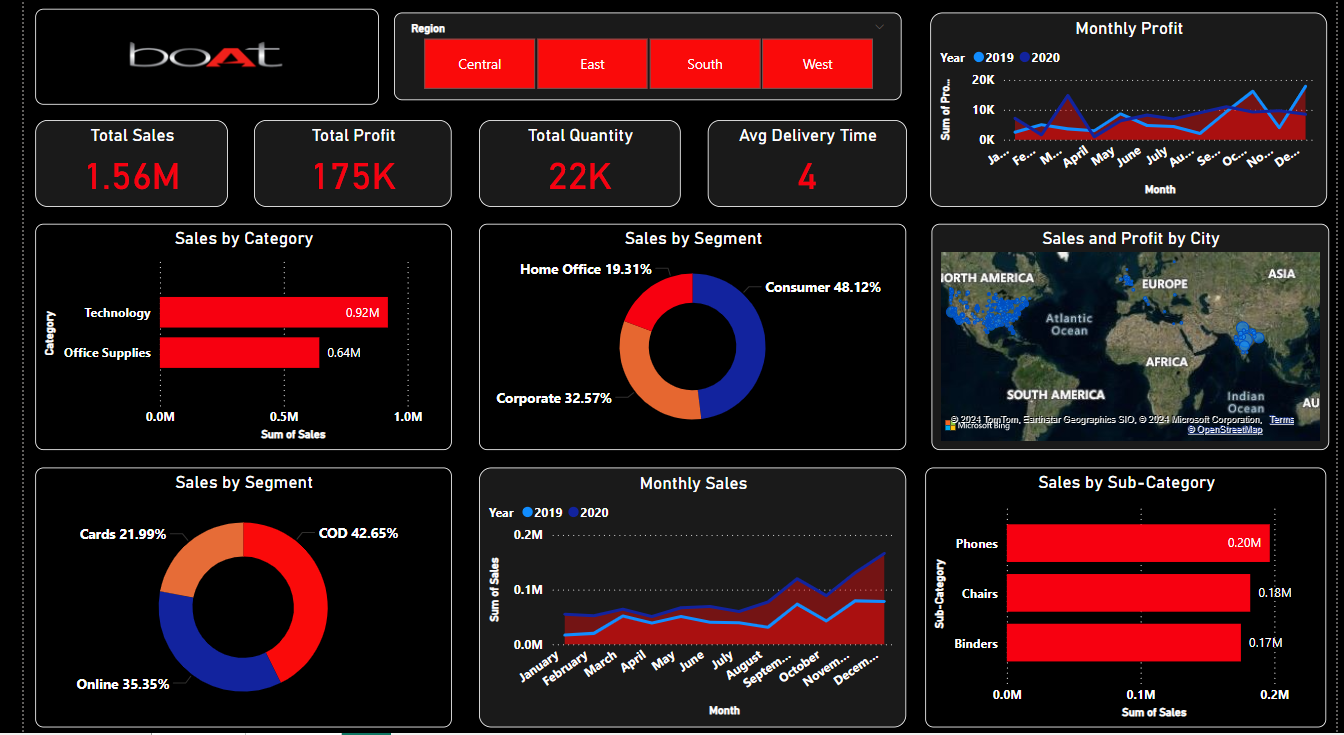

The page's visual inventory and layout, read from the dashboard file:
{"tool":"powerbi","page":{"name":"Page 1","canvas":[1280,720],"ordinal":0},"visuals":[{"type":"card","title":"Total Sales","fields":{"Values":["Sum(Sheet1.Sales)"]},"box":[10.7,116.7,188.1,84.5],"z":0},{"type":"card","title":"Total Profit","fields":{"Values":["Sum(Sheet1.Profit)"]},"box":[223.8,116.7,192.9,84.5],"z":1},{"type":"card","title":"Total Quantity","fields":{"Values":["Sum(Sheet1.Quantity)"]},"box":[444,116.7,196.4,84.5],"z":2},{"type":"card","title":"Avg Delivery Time","fields":{"Values":["Avg(Sheet1.Avg Delivert Time)"]},"box":[666.7,116.7,194,84.5],"z":3},{"type":"areaChart","title":"Monthly Profit ","fields":{"Category":["Sheet1.Order Date.Variation.Date Hierarchy.Month"],"Y":["Sum(Sheet1.Profit)"],"Series":["Sheet1.Order Date.Variation.Date Hierarchy.Year"]},"box":[884.5,11.9,386.9,189.3],"z":4},{"type":"clusteredBarChart","title":"Sales by Category","fields":{"Y":["Sum(Sheet1.Sales)"],"Category":["Sheet1.Category"]},"box":[11,218.3,406.1,220.7],"z":5},{"type":"clusteredBarChart","title":"Sales by Sub-Category","fields":{"Y":["Sum(Sheet1.Sales)"],"Category":["Sheet1.Sub-Category"]},"box":[879.3,456.1,391.5,253.7],"z":6},{"type":"areaChart","title":"Monthly Sales","fields":{"Category":["Sheet1.Order Date.Variation.Date Hierarchy.Month"],"Series":["Sheet1.Order Date.Variation.Date Hierarchy.Year"],"Y":["Sum(Sheet1.Sales)"]},"box":[443.9,456.1,417.1,253.7],"z":7},{"type":"donutChart","title":"Sales by Segment","fields":{"Category":["Sheet1.Segment"],"Y":["Sum(Sheet1.Sales)"]},"box":[443.9,218.3,417.1,220.7],"z":8},{"type":"donutChart","title":"Sales by Segment","fields":{"Y":["Sum(Sheet1.Sales)"],"Category":["Sheet1.Payment Mode"]},"box":[11,456.1,406.1,253.7],"z":9},{"type":"map","title":"Sales and Profit by City","fields":{"Category":["Sheet1.City"],"Size":["Sum(Sheet1.Sales)"]},"box":[885.4,218.3,387.8,220.7],"z":10},{"type":"slicer","title":"Region","fields":{"Values":["Sheet1.Region"]},"box":[361,12.2,495.1,85.4],"z":11},{"type":"image","box":[11,8.5,335.4,93.9],"z":12}]}

Visuals, with their boxes in screenshot pixels (x1, y1, x2, y2), scaled from the page's 1280x720 canvas onto the 1344x735 screenshot:
"Total Sales" card: detection(11, 119, 209, 205)
"Total Profit" card: detection(235, 119, 438, 205)
"Total Quantity" card: detection(466, 119, 672, 205)
"Avg Delivery Time" card: detection(700, 119, 904, 205)
"Monthly Profit " areaChart: detection(929, 12, 1335, 205)
"Sales by Category" clusteredBarChart: detection(12, 223, 438, 448)
"Sales by Sub-Category" clusteredBarChart: detection(923, 466, 1334, 725)
"Monthly Sales" areaChart: detection(466, 466, 904, 725)
"Sales by Segment" donutChart: detection(466, 223, 904, 448)
"Sales by Segment" donutChart: detection(12, 466, 438, 725)
"Sales and Profit by City" map: detection(930, 223, 1337, 448)
"Region" slicer: detection(379, 12, 899, 100)
image: detection(12, 9, 364, 105)
